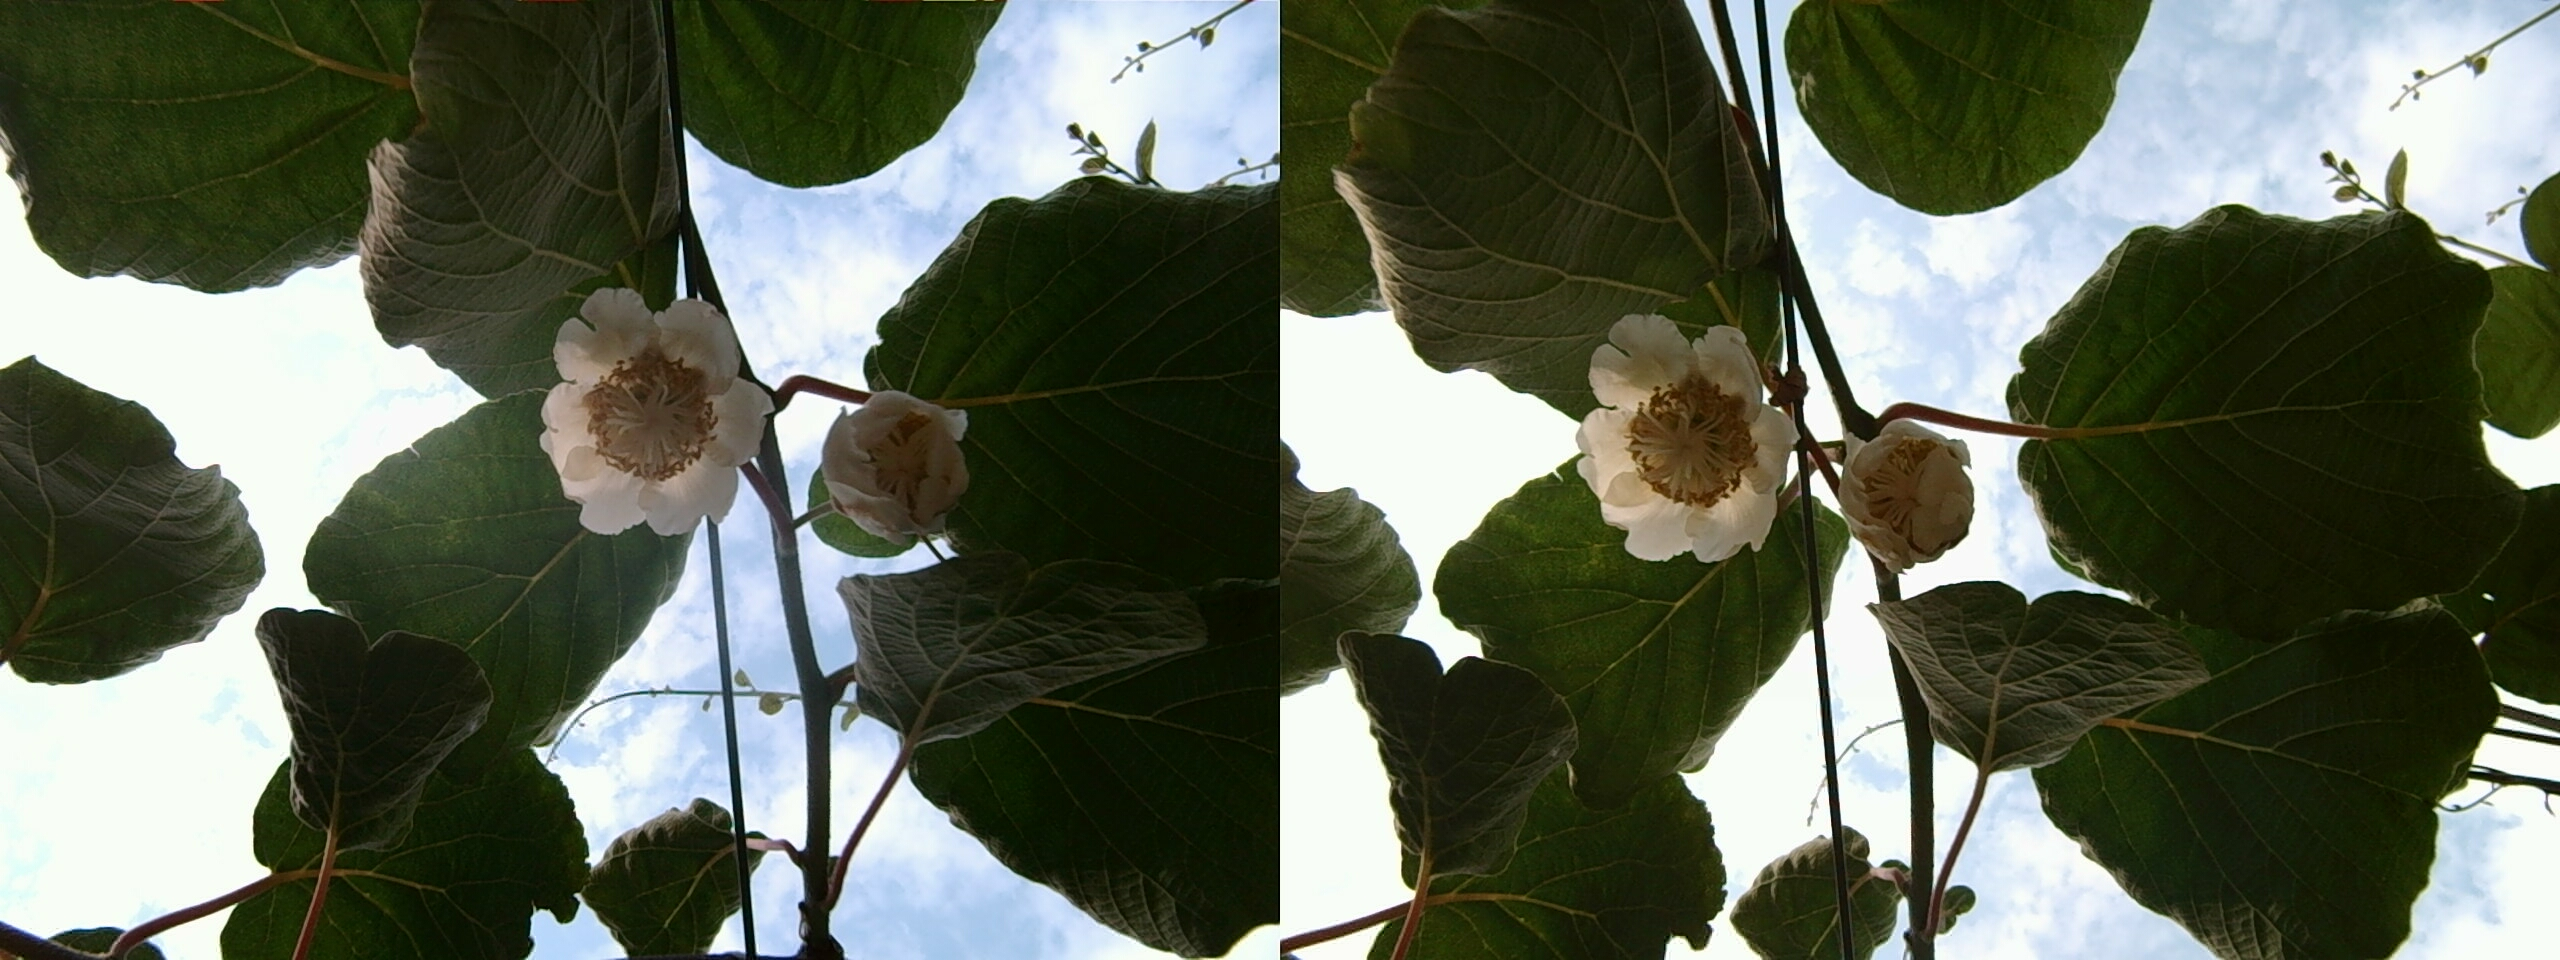flower: (526, 281, 779, 539), (1567, 305, 1799, 563), (815, 385, 975, 545), (1837, 420, 1971, 563)
